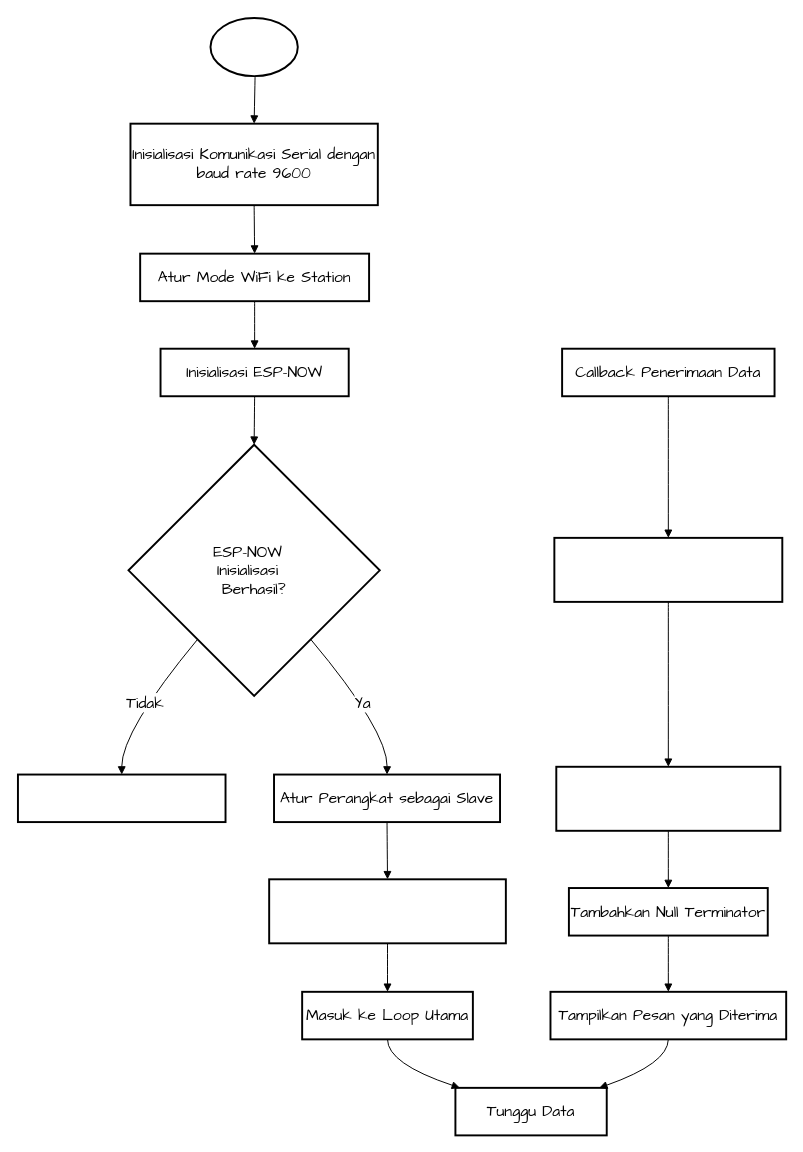
This 803x1152 diagram has some shape labels left out. Each missing label, with the box of its shape:
Daftarkan Fungsi Callback Penerimaan: (268, 878, 506, 944)
Mulai: (209, 16, 298, 77)
Salin Data yang Diterima ke Buffer: (555, 765, 781, 831)
Tampilkan Alamat MAC Pengirim: (553, 536, 783, 602)
Tampilkan Pesan Kesalahan: (16, 773, 226, 823)
